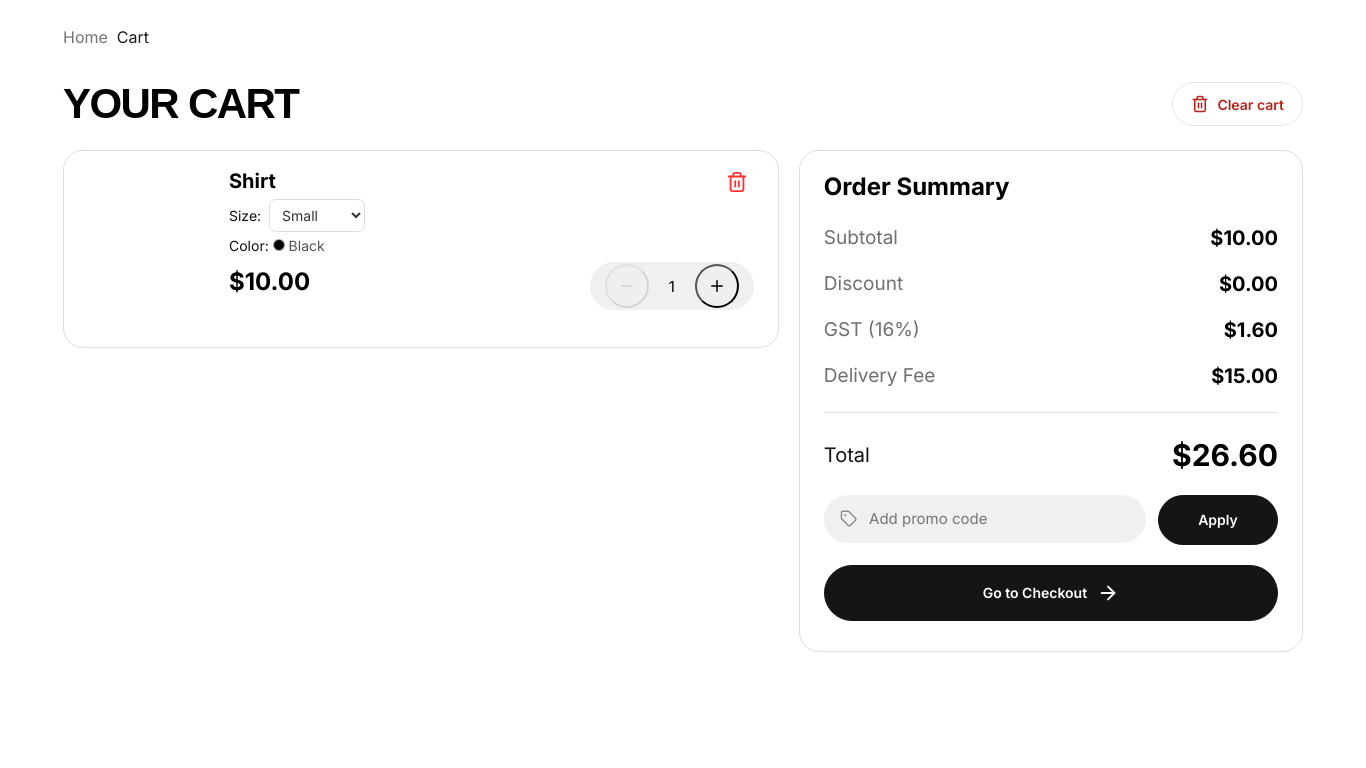
Scenario: changes size and displays the returned unit price and cart total
Select "Large" in the dropdown named "Size for Shirt" at (317, 216), box [269,199,365,232]
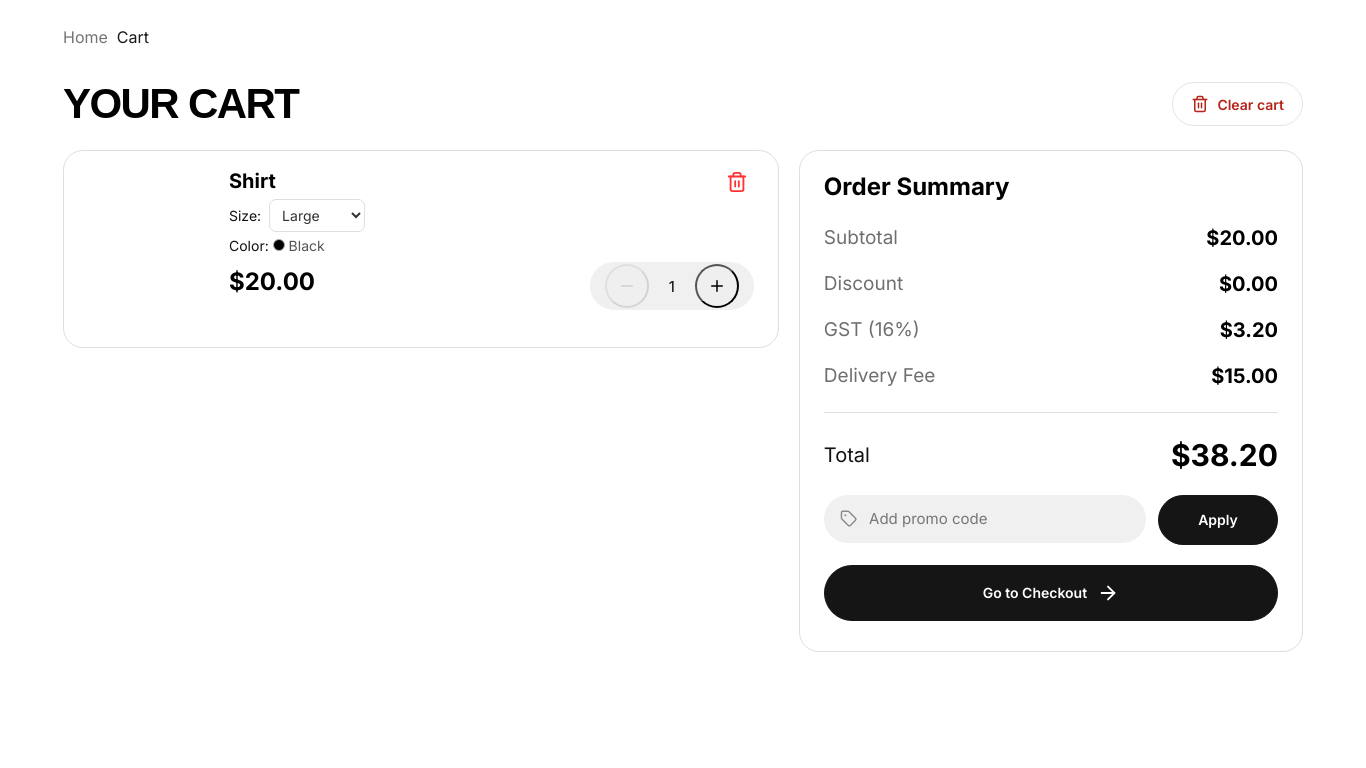
Now the text "$38.20" is shown, box [1171,437,1278,473]
Now the dropdown named "Size for Shirt" shows "Large", box [269,199,365,232]
Now the text "$20.00" below "Color:" is shown, box [229,267,315,296]
